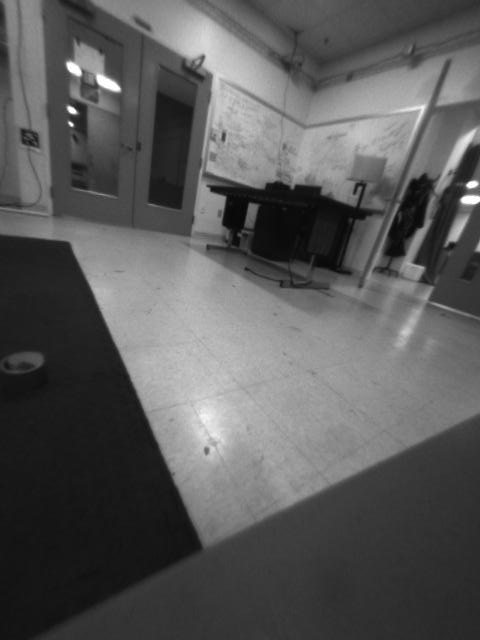dogtoy: (1, 342, 51, 391)
